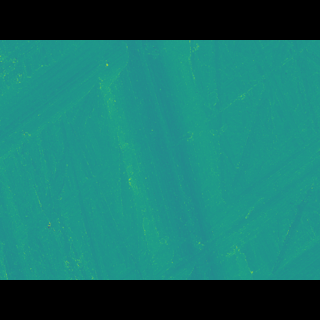Loch: (145, 140, 319, 251), (0, 68, 124, 164)
